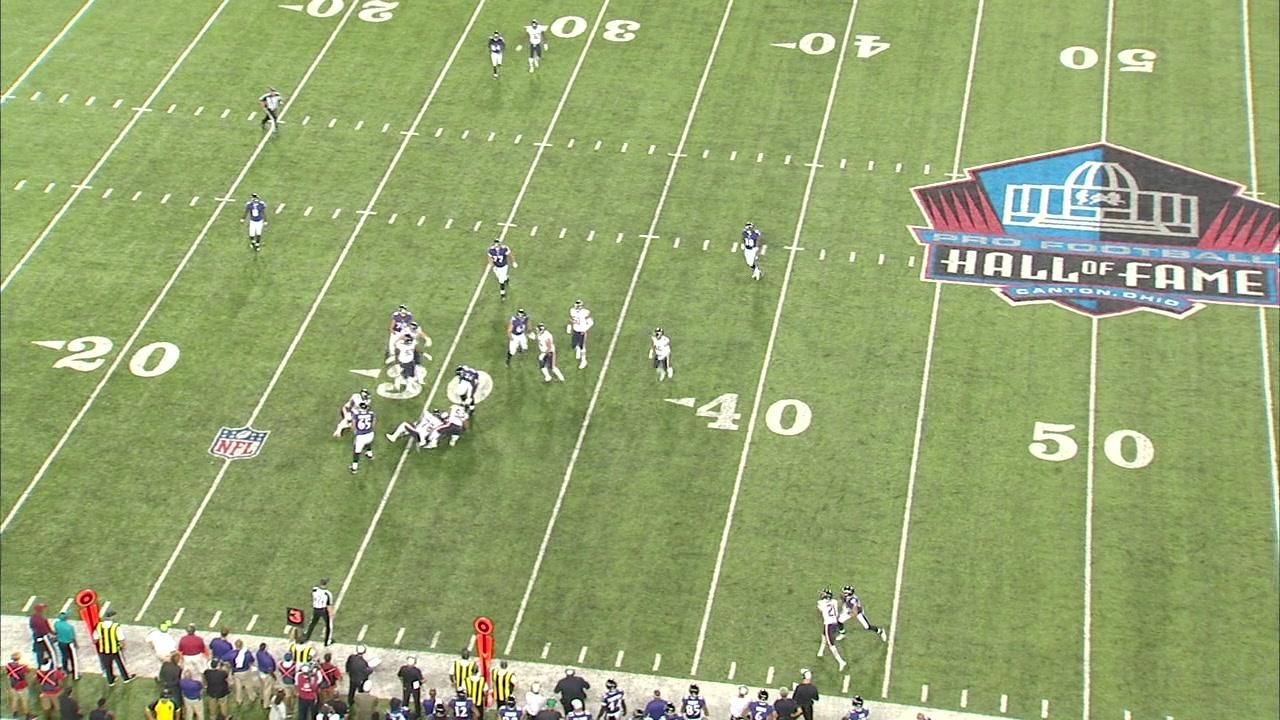marker: (472, 614, 499, 689), (79, 584, 103, 658)
number: (1025, 415, 1161, 471), (698, 387, 817, 437), (51, 334, 184, 378), (1059, 39, 1161, 78), (799, 26, 893, 63), (549, 13, 644, 48)
